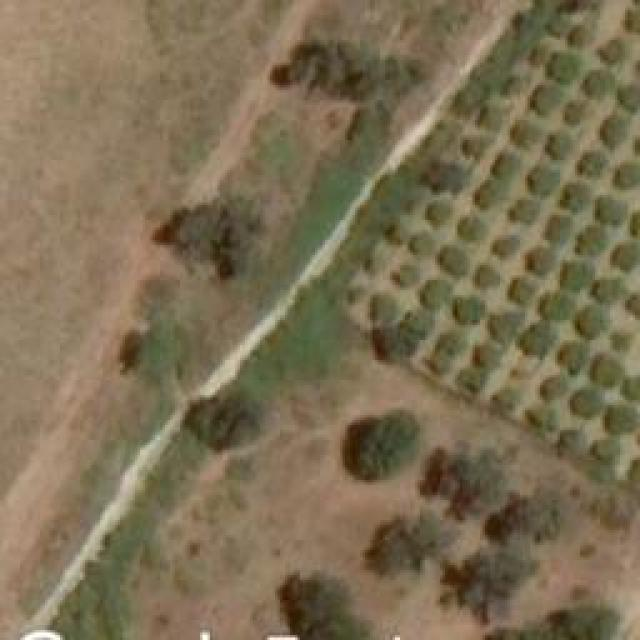Tree: (275, 35, 423, 107), (150, 197, 269, 280), (280, 565, 380, 638), (423, 445, 503, 518), (485, 495, 566, 560), (180, 388, 263, 451), (443, 553, 523, 618), (345, 418, 415, 481), (118, 328, 188, 387), (368, 515, 443, 570), (550, 600, 618, 640), (520, 323, 558, 356), (558, 340, 591, 373), (488, 313, 521, 343), (560, 262, 595, 290), (573, 227, 608, 255), (473, 182, 508, 210), (528, 167, 561, 195), (438, 248, 468, 278), (580, 70, 618, 93), (610, 242, 640, 270), (510, 120, 540, 148), (543, 132, 573, 160), (530, 87, 560, 115), (508, 198, 541, 223), (435, 163, 468, 188), (577, 307, 605, 335), (552, 52, 580, 80), (540, 295, 573, 318), (605, 408, 635, 433), (475, 108, 505, 133), (603, 118, 628, 148), (543, 215, 573, 240), (560, 185, 588, 210), (595, 198, 623, 223), (592, 360, 620, 385), (455, 298, 483, 323), (422, 280, 450, 305), (525, 408, 553, 433), (385, 333, 413, 358), (493, 152, 518, 180), (573, 393, 603, 416), (490, 388, 520, 411), (400, 315, 430, 338), (595, 278, 623, 301), (525, 250, 553, 273), (457, 218, 485, 241), (370, 295, 395, 320), (425, 203, 450, 228), (510, 280, 535, 303), (563, 103, 588, 126), (600, 40, 625, 63), (460, 138, 488, 158), (458, 370, 481, 393), (617, 87, 640, 110), (500, 75, 523, 98), (615, 165, 640, 185), (580, 155, 605, 175), (593, 443, 618, 463), (393, 265, 418, 285), (543, 378, 568, 398), (568, 23, 588, 48), (475, 348, 498, 368), (410, 233, 430, 256), (528, 45, 548, 68), (425, 355, 453, 370), (622, 378, 640, 401), (608, 332, 631, 350), (475, 267, 498, 285), (493, 237, 516, 255), (385, 220, 403, 243), (622, 10, 640, 33), (443, 333, 463, 353), (560, 433, 583, 448), (348, 288, 363, 303)
